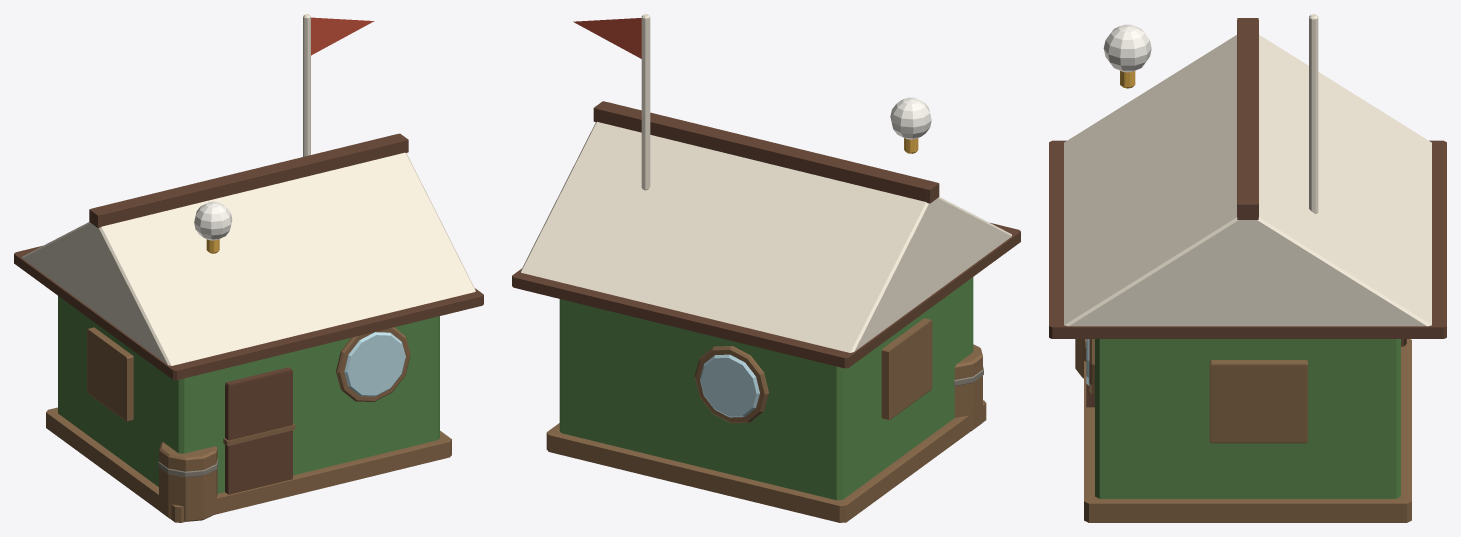
Rendered from golfhut.glb.
3 views of the same model, side by side, from view 1: azimuth 30°, elevation 25°; view 2: azimuth 150°, elevation 25°; view 3: azimuth 270°, elevation 25° (orthographic). The views are drawn at different scales.
Visible parts, largest first — view 1: g_roof, g_walls, g_base, g_door, g_trim, g_roof_ridge, g_barrel, g_sw1_f, g_round_win, g_round_frame, g_flag, g_ballobj (+1 smaller); view 2: g_roof, g_walls, g_base, g_trim, g_roof_ridge, g_sw1_f, g_backwin, g_barrel, g_pole, g_backwin_f, g_flag, g_ballobj; view 3: g_roof, g_walls, g_trim, g_base, g_sw2_f, g_roof_ridge, g_pole, g_ballobj.
Part boxes in pixels (box(x1,y1,x2,y2)): g_roof: box(22, 152, 475, 365); g_walls: box(58, 296, 439, 493); g_base: box(46, 407, 451, 522); g_door: box(225, 367, 292, 494); g_trim: box(14, 245, 483, 380); g_roof_ridge: box(89, 133, 408, 227); g_barrel: box(159, 442, 217, 521); g_sw1_f: box(87, 327, 133, 421); g_round_win: box(344, 332, 405, 396); g_round_frame: box(336, 327, 410, 402); g_flag: box(311, 17, 374, 55); g_ballobj: box(194, 201, 232, 240); g_roof: box(521, 121, 1011, 352); g_walls: box(559, 277, 973, 500); g_base: box(546, 400, 986, 522); g_trim: box(512, 223, 1020, 368); g_roof_ridge: box(593, 101, 939, 203); g_sw1_f: box(881, 318, 932, 420); g_backwin: box(700, 354, 759, 417); g_barrel: box(954, 344, 982, 430); g_pole: box(641, 14, 650, 190); g_backwin_f: box(694, 346, 768, 423); g_flag: box(573, 18, 641, 58); g_ballobj: box(890, 97, 931, 139); g_roof: box(1064, 35, 1431, 326); g_walls: box(1095, 339, 1400, 498); g_trim: box(1049, 140, 1446, 338); g_base: box(1084, 339, 1411, 522); g_sw2_f: box(1209, 360, 1307, 443); g_roof_ridge: box(1237, 18, 1258, 219); g_pole: box(1309, 14, 1318, 213); g_ballobj: box(1103, 24, 1151, 72).
Size of the model in its own units: 2.02 by 2.4 by 1.82.
